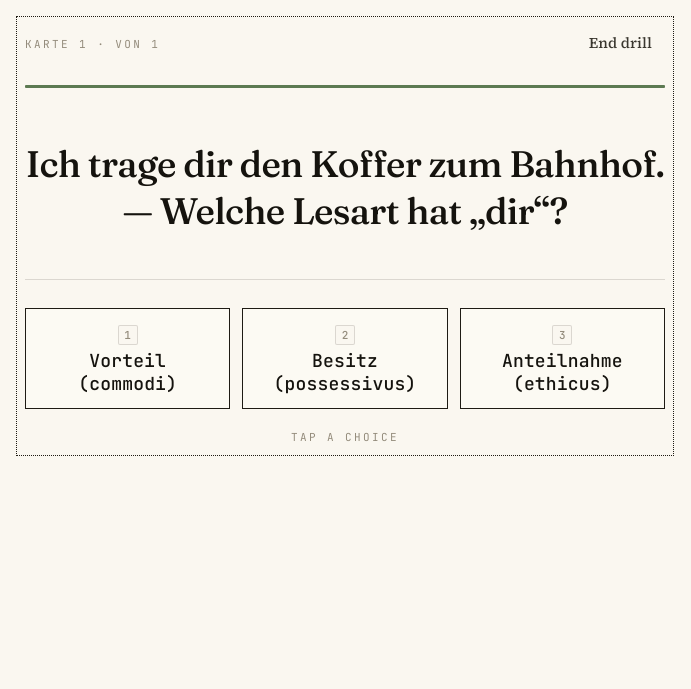
it: FreeRunner › wrong pick reveals the correct reading and the explanation with the counterexample
The width and height of the screenshot is (691, 689).
What coordinates should you click on to do the following:
click the button with class "choice" showing "2 Besitz (possessivus)"
I would click on:
 (345, 359)
Its box is [242,308,448,409].
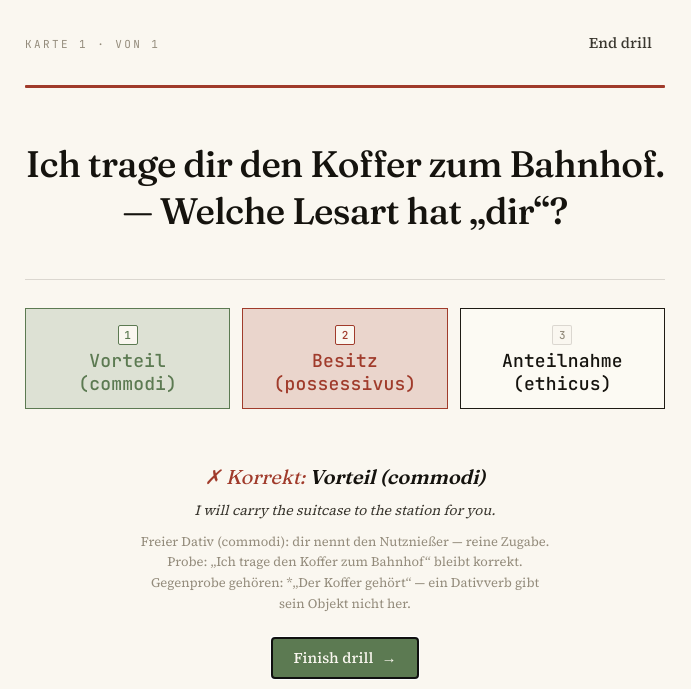
Expected: the text "Vorteil (commodi)" is shown, [78,349,177,395]
Expected: the element with class "drill-feedback" is shown, [141,464,549,679]
Expected: the text "Freier Dativ (commodi): dir nennt den Nutznießer — reine Zugabe. Probe: „Ich trage den Koffer zum Bahnhof“ bleibt korrekt. Gegenprobe gehören: *„Der Koffer gehö" is shown, [141,533,549,612]
